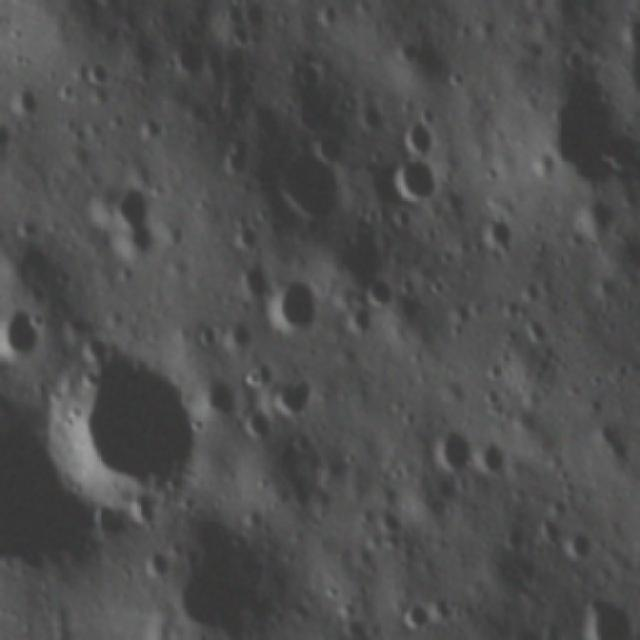crater: (53, 341, 222, 516), (265, 146, 361, 220), (274, 263, 331, 342), (272, 376, 328, 429), (570, 598, 636, 640), (169, 40, 234, 82), (0, 303, 38, 361), (398, 150, 436, 204), (429, 427, 469, 473), (400, 116, 449, 150), (292, 53, 328, 90), (560, 528, 592, 558), (246, 407, 272, 442), (564, 44, 591, 73), (83, 55, 111, 82)
